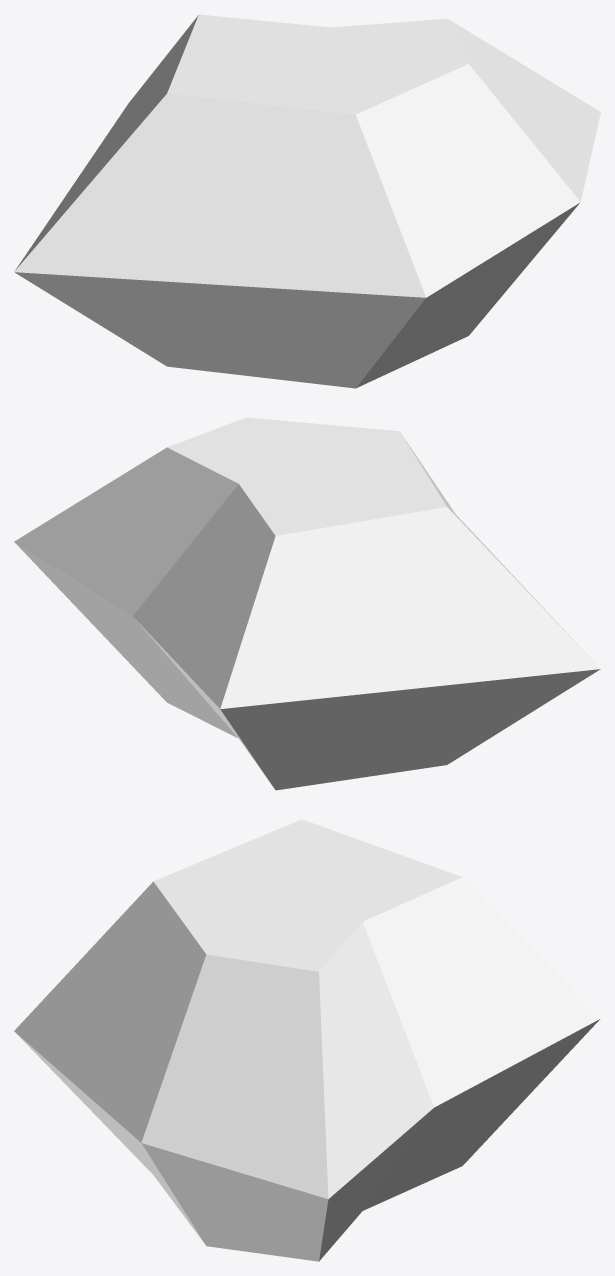
Rendered from Projectiles.fbx.
3 views of the same model, one above another, from view 1: azimuth 30°, elevation 25°; view 2: azimuth 150°, elevation 25°; view 3: azimuth 270°, elevation 25° (orthographic). The views are drawn at different scales.
Parts seen in each view (by area): view 1: Fire; view 2: Fire; view 3: Fire.
Boxes of the visible parts, box(x1,y1,x2,y2) form: Fire: box(14, 14, 600, 388); Fire: box(14, 417, 600, 790); Fire: box(14, 819, 600, 1261).
Size of the model in its own units: 85.15 by 36.88 by 66.8.
